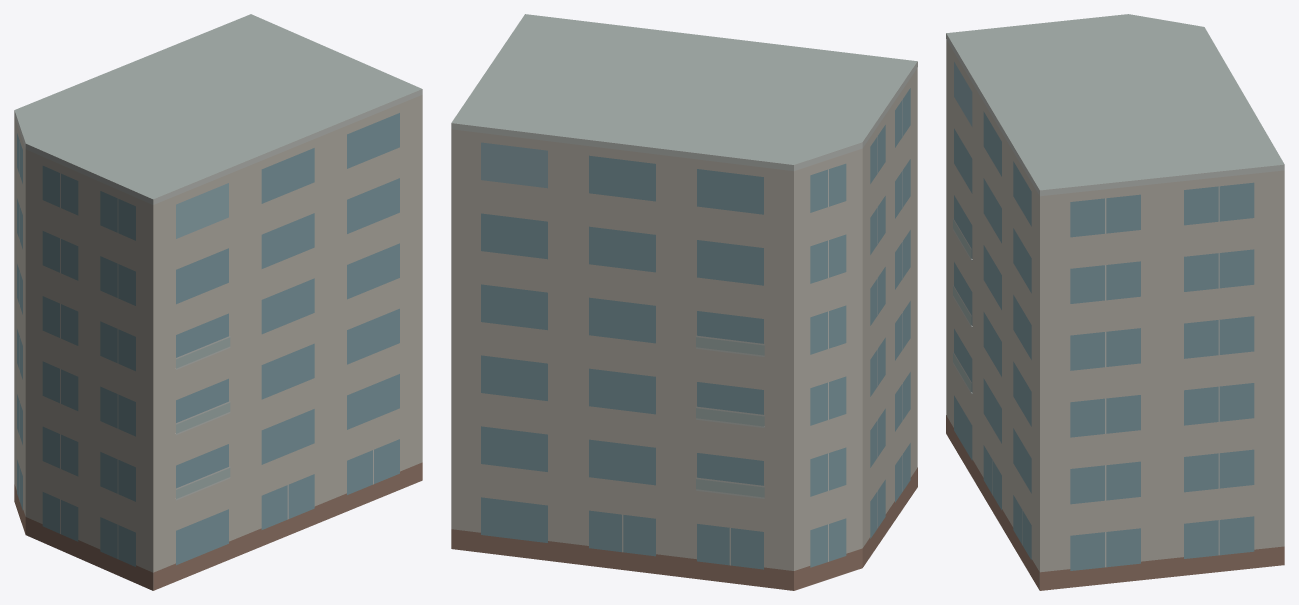
Rendered from survey-upis-32715358.glb.
3 views of the same model, side by side, from view 1: azimuth 30°, elevation 25°; view 2: azimuth 150°, elevation 25°; view 3: azimuth 270°, elevation 25° (orthographic). The views are drawn at different scales.
Parts seen in each view (by area): view 1: survey-upis-32715358.tmp; view 2: survey-upis-32715358.tmp; view 3: survey-upis-32715358.tmp.
Part boxes in pixels (bbox=[...]): survey-upis-32715358.tmp: bbox=[14, 14, 422, 590]; survey-upis-32715358.tmp: bbox=[451, 14, 917, 590]; survey-upis-32715358.tmp: bbox=[946, 14, 1284, 590].
Bounding box in the file's own units: 15.89 × 16.8 × 12.89.
